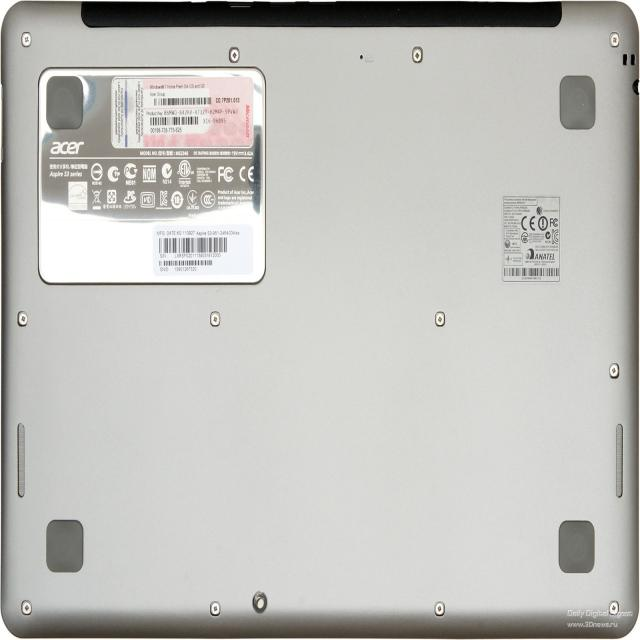missing_screw: (252, 590, 267, 613)
